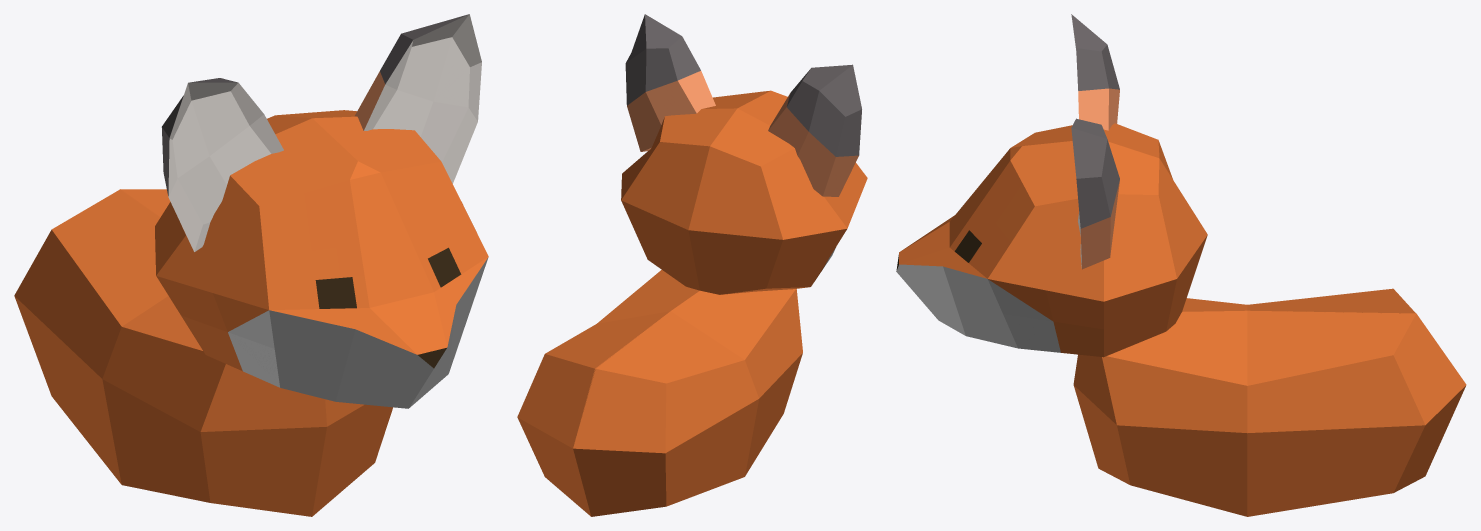
File: Fox.fbx
3 views of the same model, side by side, from view 1: azimuth 30°, elevation 25°; view 2: azimuth 150°, elevation 25°; view 3: azimuth 270°, elevation 25° (orthographic). The views are drawn at different scales.
Parts seen in each view (by area): view 1: Cube, Cube.002, Cube.001; view 2: Cube.002, Cube, Cube.001; view 3: Cube.002, Cube, Cube.001.
Boxes of the visible parts, x1,y1,x2,y2 form: Cube: (155,110,488,408); Cube.002: (14,189,392,516); Cube.001: (161,14,481,251); Cube.002: (517,270,802,516); Cube: (621,90,867,294); Cube.001: (625,14,861,196); Cube.002: (1073,288,1466,516); Cube: (896,123,1207,357); Cube.001: (1071,14,1119,269).
Bounding box in the file's own units: 164 × 257 × 313.
